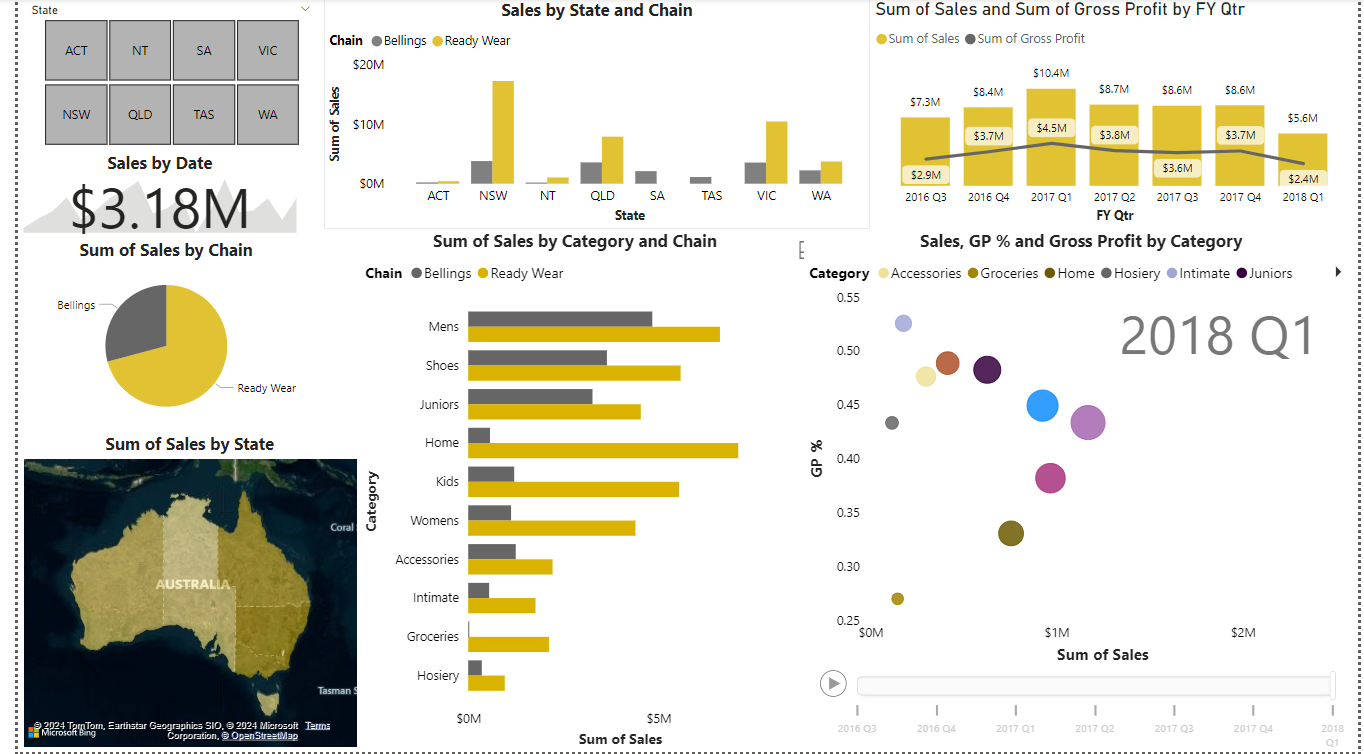

The dashboard page shown, as its layout file describes it:
{"tool":"powerbi","page":{"name":"Summary","canvas":[1280,720],"ordinal":0},"visuals":[{"type":"kpi","fields":{"Indicator":["Sum(Sales.Sales)"],"TrendLine":["Dates.Date"]},"box":[0,146.7,270.7,82.7],"z":0},{"type":"clusteredColumnChart","title":"Sales by State and Chain","fields":{"Y":["Sum(Sales.Sales)"],"Category":["Regions.State"],"Series":["Sales.Chain"]},"box":[292,0,521.3,220],"z":1000},{"type":"lineClusteredColumnComboChart","fields":{"Y":["Sum(Sales.Sales)"],"Category":["Dates.FY Qtr"],"Y2":["Sum(Sales.Gross Profit)"]},"box":[813.3,0,466.7,220],"z":2000},{"type":"pieChart","fields":{"Y":["Sum(Sales.Sales)"],"Category":["Sales.Chain"]},"box":[0,229.3,282.7,184],"z":3000},{"type":"filledMap","title":"Sum of Sales by State","fields":{"Category":["Regions.State,Country"]},"box":[0,413.3,328,306.7],"z":4000},{"type":"clusteredBarChart","fields":{"Y":["Sum(Sales.Sales)"],"Category":["Sales.Category"],"Series":["Sales.Chain"]},"box":[326.7,220,410.7,500],"z":5000},{"type":"scatterChart","title":"Sales, GP % and Gross Profit by Category","fields":{"X":["Sum(Sales.Sales)"],"Series":["Sales.Category"],"Y":["Sales.GP %"],"Size":["Sum(Sales.Gross Profit)"],"Play":["Dates.FY Qtr"]},"box":[750.7,220,529.3,500],"z":6000},{"type":"slicer","fields":{"Values":["Regions.State"]},"box":[0,0,292,146.7],"z":7000}]}

Visuals, with their boxes in screenshot pixels (x1, y1, x2, y2), scaled from the page's 1280x720 canvas onto the 1364x754 screenshot:
kpi - Sum(Sales.Sales) x Dates.Date: (left=0, top=154, right=288, bottom=240)
"Sales by State and Chain" clusteredColumnChart: (left=311, top=0, right=867, bottom=230)
lineClusteredColumnComboChart - Sum(Sales.Sales) x Dates.FY Qtr: (left=867, top=0, right=1363, bottom=230)
pieChart - Sum(Sales.Sales) x Sales.Chain: (left=0, top=240, right=301, bottom=433)
"Sum of Sales by State" filledMap: (left=0, top=433, right=350, bottom=753)
clusteredBarChart - Sum(Sales.Sales) x Sales.Category: (left=348, top=230, right=786, bottom=753)
"Sales, GP % and Gross Profit by Category" scatterChart: (left=800, top=230, right=1363, bottom=753)
slicer - Regions.State: (left=0, top=0, right=311, bottom=154)
